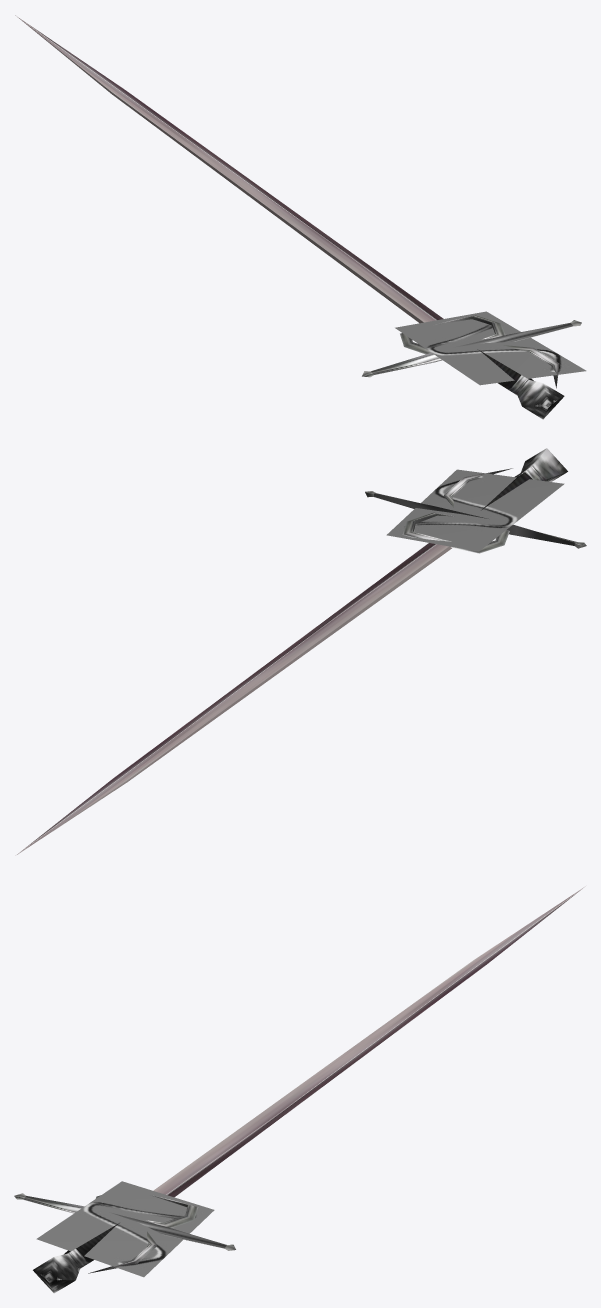
File: pir_m_hnd_swd_rapier_b.fbx
The picture shows the model from 3 angles, top to bottom: view 1: azimuth 30°, elevation 25°; view 2: azimuth 150°, elevation 25°; view 3: azimuth 330°, elevation 25°; orthographic projection.
Visible parts, largest first — view 1: blade, guard_outside, grip, hilt, guard_inside, hilt_ring; view 2: guard_outside, blade, guard_inside, grip, hilt, hilt_ring; view 3: guard_outside, blade, guard_inside, grip, hilt.
Boxes of the visible parts, x1,y1,x2,y2 form: blade: [15, 15, 443, 323]; guard_outside: [395, 311, 586, 385]; grip: [477, 349, 564, 419]; hilt: [362, 320, 581, 377]; guard_inside: [397, 313, 485, 381]; hilt_ring: [400, 315, 505, 354]; guard_outside: [386, 469, 564, 551]; blade: [15, 543, 451, 855]; guard_inside: [388, 470, 559, 550]; grip: [481, 448, 567, 510]; hilt: [365, 491, 586, 548]; hilt_ring: [402, 512, 509, 553]; guard_outside: [36, 1181, 214, 1276]; blade: [153, 886, 585, 1197]; guard_inside: [41, 1185, 209, 1277]; grip: [33, 1223, 119, 1293]; hilt: [14, 1193, 235, 1250].
Size of the model in its own units: 88.84 by 14.03 by 373.
Materials: 2 (2 with a texture image).
